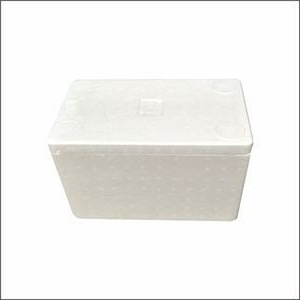5/可回收垃圾/泡沫: (47, 77, 254, 222)
